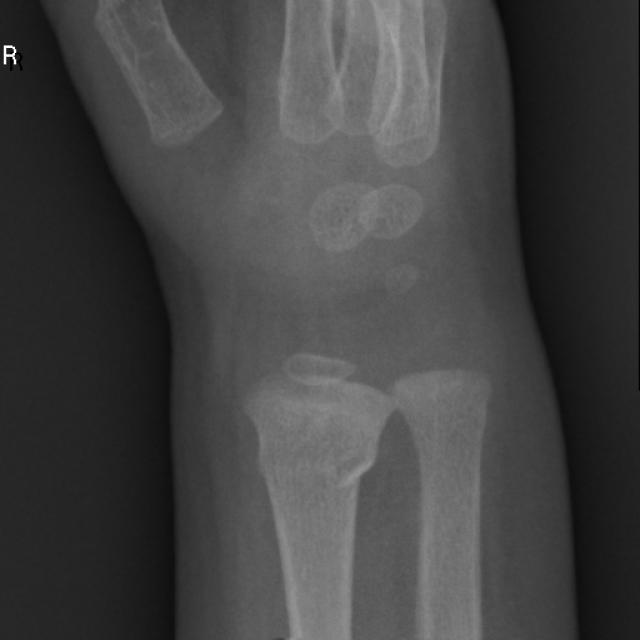radius fracture: (222, 409, 392, 558)
